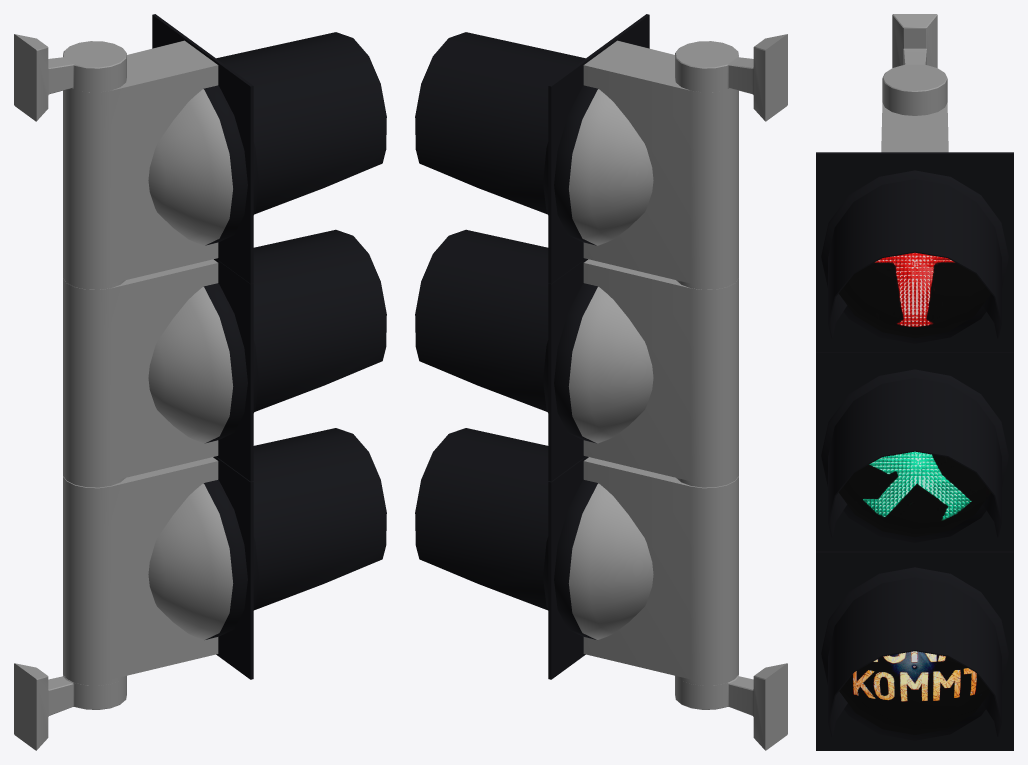
File: Fussgaengerampel_rot_gruen_Signal_Mast.glb
3 views of the same model, side by side, from view 1: azimuth 30°, elevation 25°; view 2: azimuth 150°, elevation 25°; view 3: azimuth 270°, elevation 25° (orthographic).
Parts seen in each view (by area): view 1: Cube.004, Cube.005, Cube.003, Sonnenblende.002, Sonnenblende, Sonnenblende.001, BezierCurve.018, BezierCurve.019, BezierCurve.020, Masthalterung, Blende.002, Masthalterung.001 (+2 smaller); view 2: Cube.004, Cube.005, Cube.003, Sonnenblende.002, Sonnenblende, Sonnenblende.001, BezierCurve.018, BezierCurve.019, BezierCurve.020, Masthalterung, Blende.002, Masthalterung.001 (+2 smaller); view 3: Blende.002, Blende.001, Blende, Sonnenblende, Sonnenblende.002, Sonnenblende.001, BezierCurve.019, BezierCurve.020, BezierCurve.018, Masthalterung, Cube.004.
Part boxes in pixels (x1,y1,x2,y2): Cube.004: (63,40,218,289); Cube.005: (63,457,218,685); Cube.003: (63,259,218,487); Sonnenblende.002: (216,32,386,214); Sonnenblende: (253,428,386,610); Sonnenblende.001: (253,229,386,411); BezierCurve.018: (148,283,258,443); BezierCurve.019: (148,480,258,640); BezierCurve.020: (148,85,258,245); Masthalterung: (14,34,126,121); Blende.002: (152,14,253,283); Masthalterung.001: (14,663,126,750); Cube.004: (583,40,738,289); Cube.005: (583,457,738,685); Cube.003: (583,259,738,487); Sonnenblende.002: (415,32,585,214); Sonnenblende: (415,428,548,610); Sonnenblende.001: (415,229,548,411); BezierCurve.018: (543,283,653,443); BezierCurve.019: (543,480,653,640); BezierCurve.020: (543,85,653,245); Masthalterung: (675,34,787,121); Blende.002: (548,14,649,283); Masthalterung.001: (675,663,787,750); Blende.002: (816,152,1013,352); Blende.001: (816,352,1013,551); Blende: (816,551,1013,750); Sonnenblende: (828,577,1001,736); Sonnenblende.002: (828,179,1001,338); Sonnenblende.001: (828,378,1001,537); BezierCurve.019: (821,567,1008,740); BezierCurve.020: (821,170,1008,343); BezierCurve.018: (821,369,1008,542); Masthalterung: (882,14,947,115); Cube.004: (881,102,948,152).
Bounding box in the file's own units: 0.4823 × 0.9853 × 0.2502.
5 materials, 5 textured.
